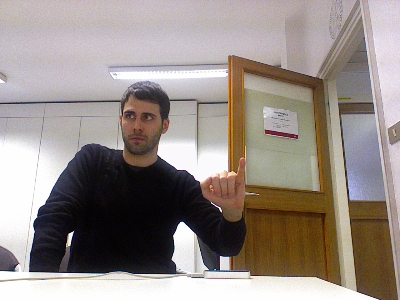小指: (199, 156, 246, 211)
